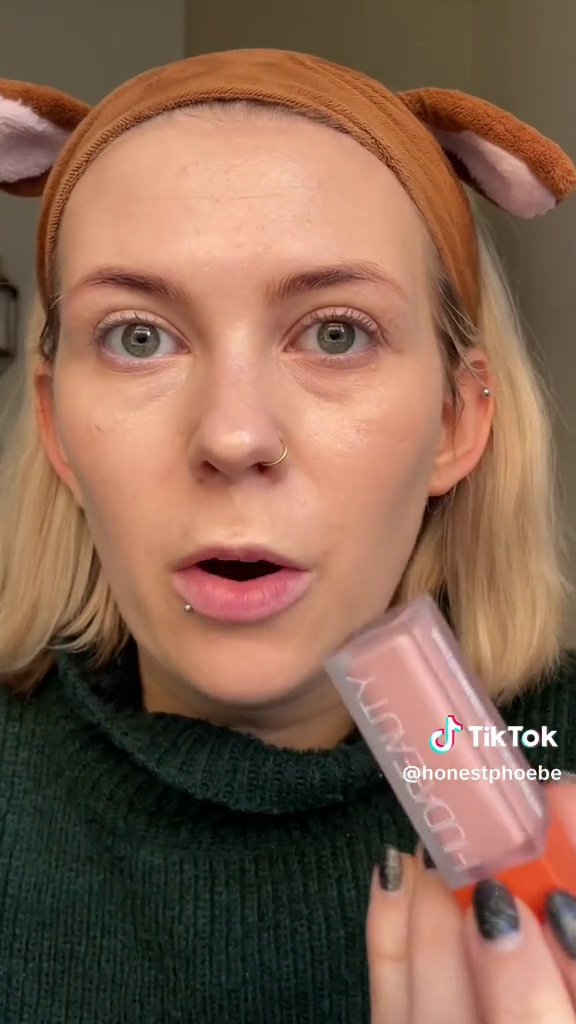train' :'yolo_data/train/images',: (316, 579, 576, 907)
